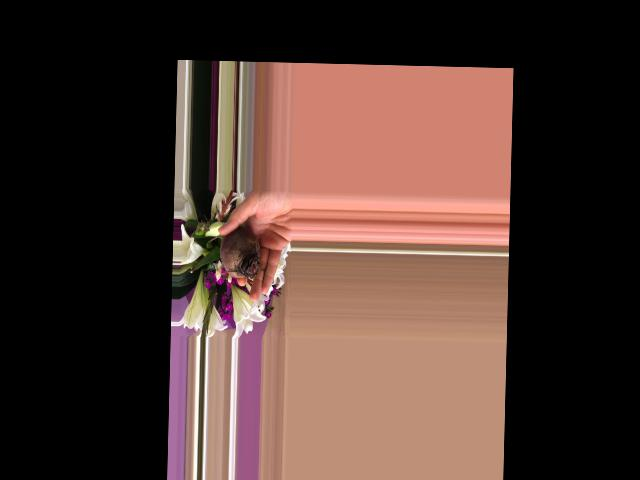beet: (207, 225, 261, 278)
